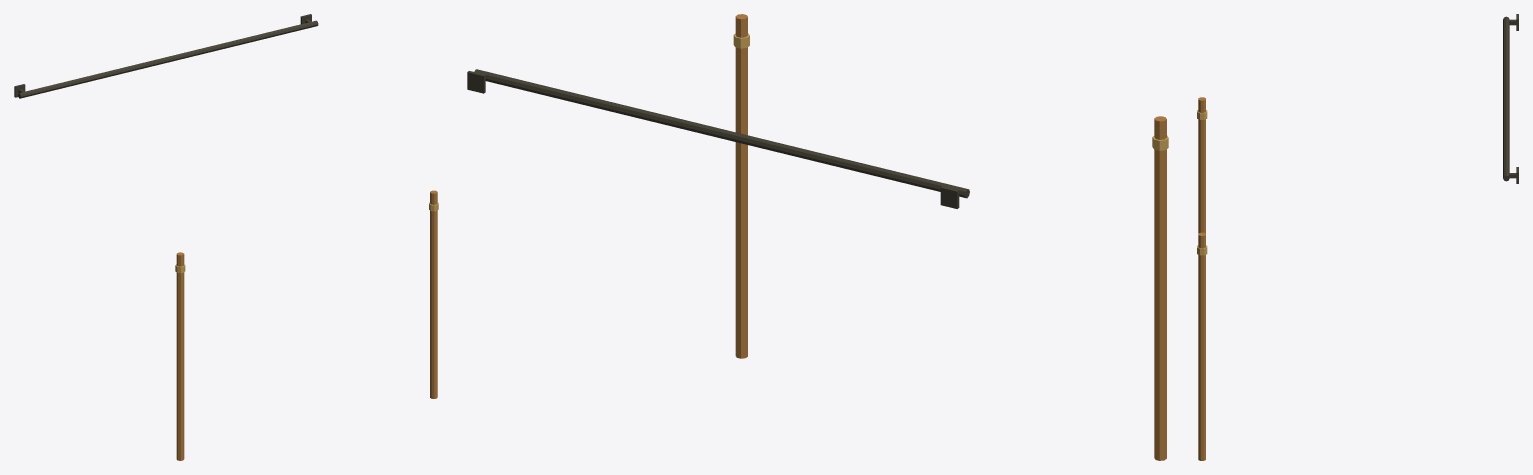
File: SM_Stall_Frame_LeanTo_03.fbx
3 renders of one model, left to right at view 1: azimuth 30°, elevation 25°; view 2: azimuth 150°, elevation 25°; view 3: azimuth 270°, elevation 25°, orthographic. The views are drawn at different scales.
Visible parts, largest first — view 1: SM_Stall_Frame_LeanTo_03; view 2: SM_Stall_Frame_LeanTo_03; view 3: SM_Stall_Frame_LeanTo_03.
Part boxes in pixels (x1=…): SM_Stall_Frame_LeanTo_03: x1=14, y1=14, x2=438, y2=460; SM_Stall_Frame_LeanTo_03: x1=467, y1=14, x2=1168, y2=460; SM_Stall_Frame_LeanTo_03: x1=1197, y1=14, x2=1518, y2=460.
Bounding box in the file's own units: 3.24 × 2.84 × 2.77.
Materials: 1 (1 with a texture image).
